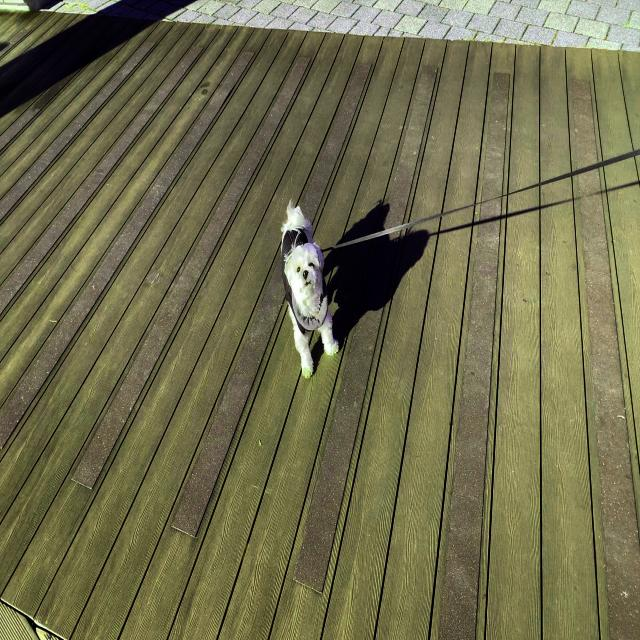Dog: (280, 197, 340, 379)
